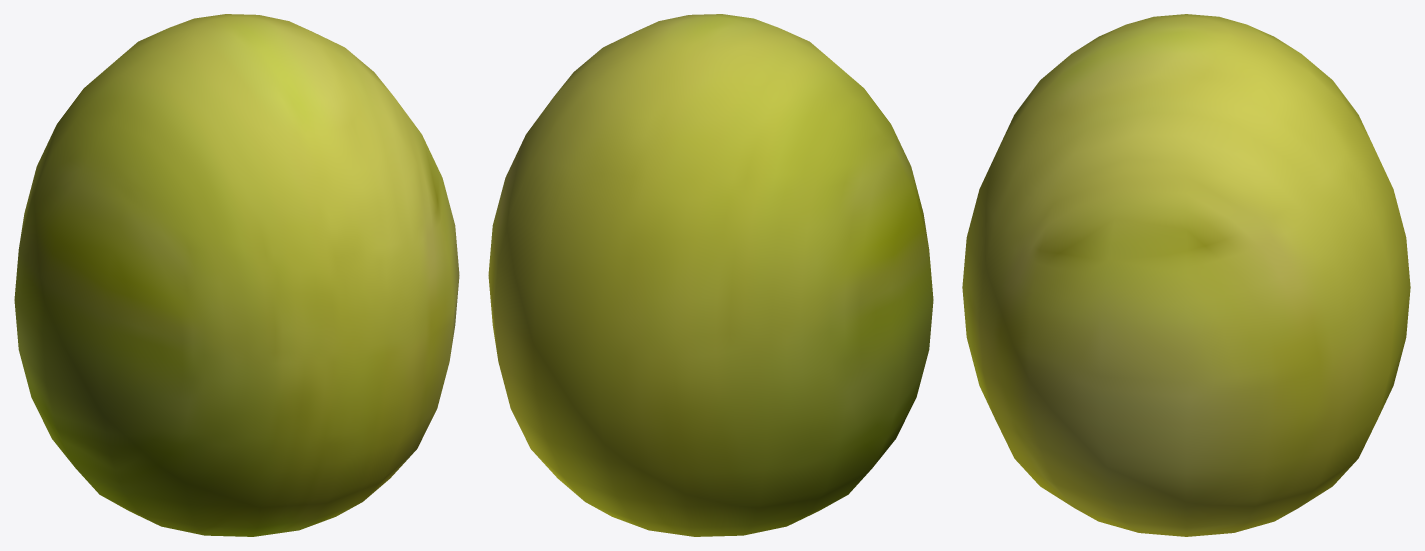
File: grape.fbx
The picture shows the model from 3 angles, left to right: view 1: azimuth 30°, elevation 25°; view 2: azimuth 150°, elevation 25°; view 3: azimuth 270°, elevation 25°; orthographic projection.
Visible parts, largest first — view 1: Grape; view 2: Grape; view 3: Grape.
Part boxes in pixels (bbox=[...]): Grape: bbox=[14, 14, 459, 536]; Grape: bbox=[488, 14, 933, 536]; Grape: bbox=[962, 14, 1410, 536].
Bounding box in the file's own units: 0.0817 × 0.0993 × 0.0817.
